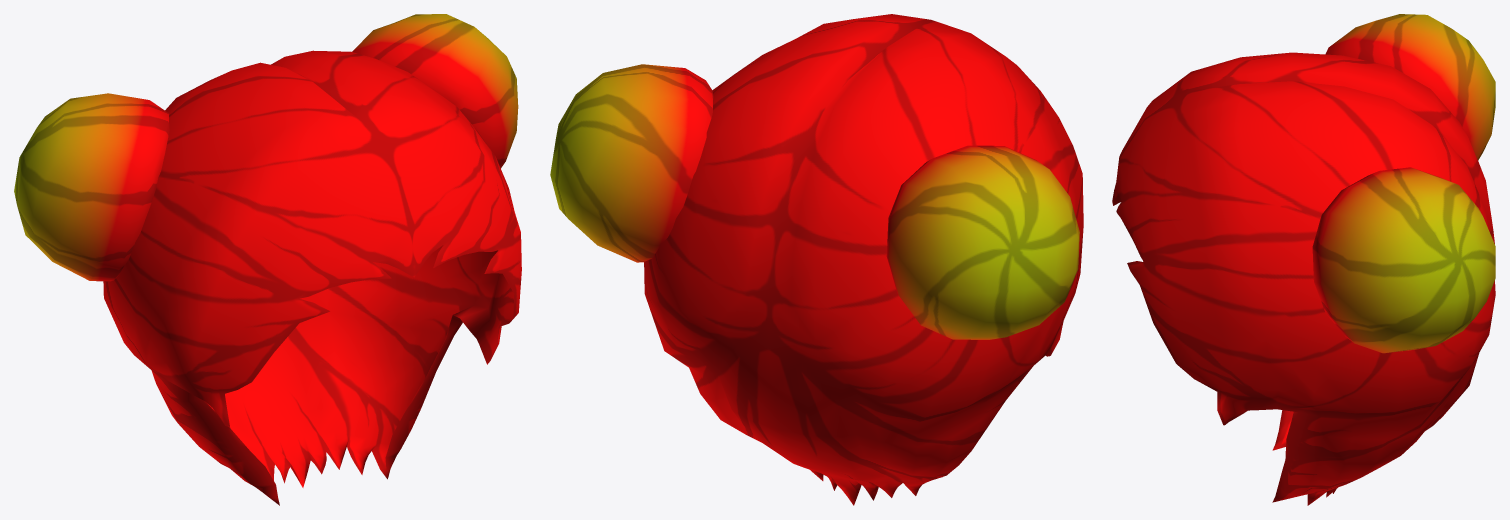
The model's file is HairBack_TwinBuns.fbx.
3 views of the same model, side by side, from view 1: azimuth 30°, elevation 25°; view 2: azimuth 150°, elevation 25°; view 3: azimuth 270°, elevation 25° (orthographic). The views are drawn at different scales.
Parts seen in each view (by area): view 1: HairBack_TwinBuns; view 2: HairBack_TwinBuns; view 3: HairBack_TwinBuns.
Part boxes in pixels (x1,y1,x2,y2): HairBack_TwinBuns: (14, 14, 521, 505); HairBack_TwinBuns: (550, 14, 1083, 505); HairBack_TwinBuns: (1112, 14, 1495, 505).
Size of the model in its own units: 32.25 by 27.11 by 22.52.
Materials: 1 (1 with a texture image).
